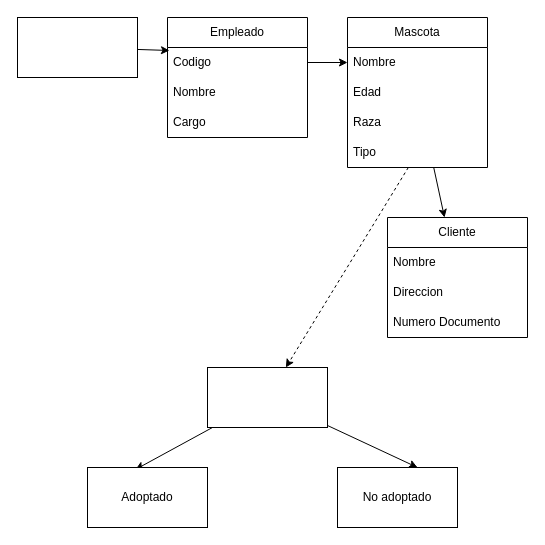
Image size: 545x545. Some labels were removed from this diagram. The shapes that lost their labels are listed below. From the top down, each one's centre as x and y in pixels, then its label:
At [77,47]: "Tienda Mascotas".
At [267,397]: "Estado mascota".
